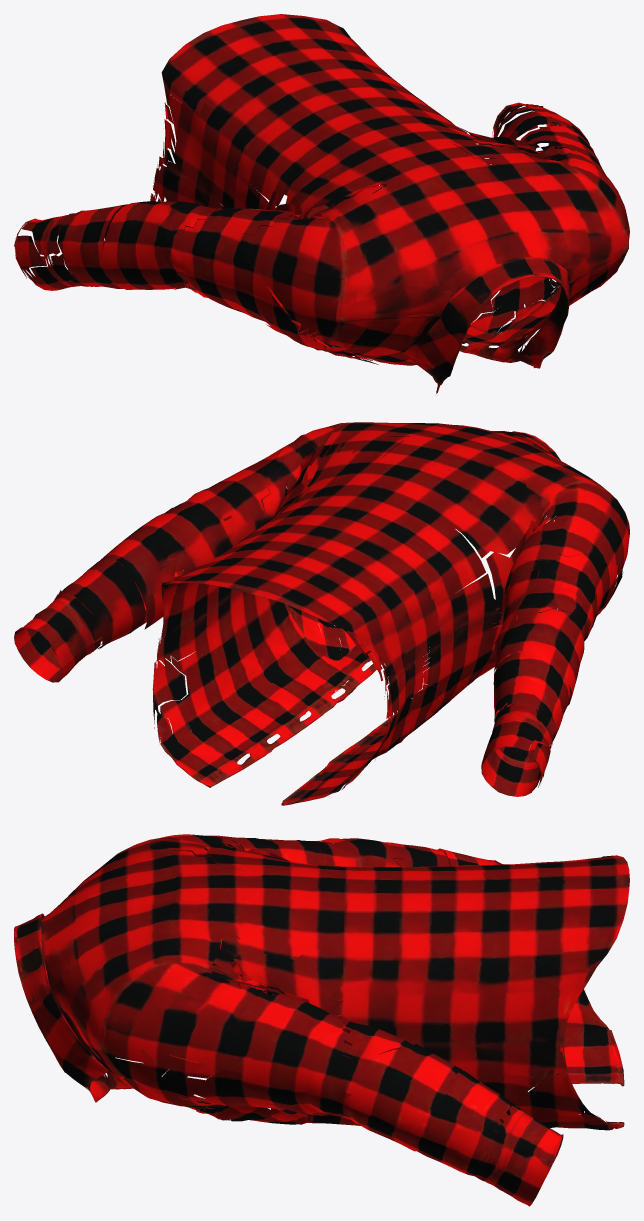
The model's file is adult-base-01.mobile.glb.
3 renders of one model, top to bottom at view 1: azimuth 30°, elevation 25°; view 2: azimuth 150°, elevation 25°; view 3: azimuth 270°, elevation 25°, orthographic. The views are drawn at different scales.
Parts seen in each view (by area): view 1: geometry_0; view 2: geometry_0; view 3: geometry_0.
Part boxes in pixels (box(x1,y1,x2,y2)): geometry_0: box(14, 14, 629, 393); geometry_0: box(14, 422, 629, 805); geometry_0: box(14, 834, 629, 1206).
Bounding box in the file's own units: 0.00842 × 0.00321 × 0.0078.
Materials: 1 (1 with a texture image).
